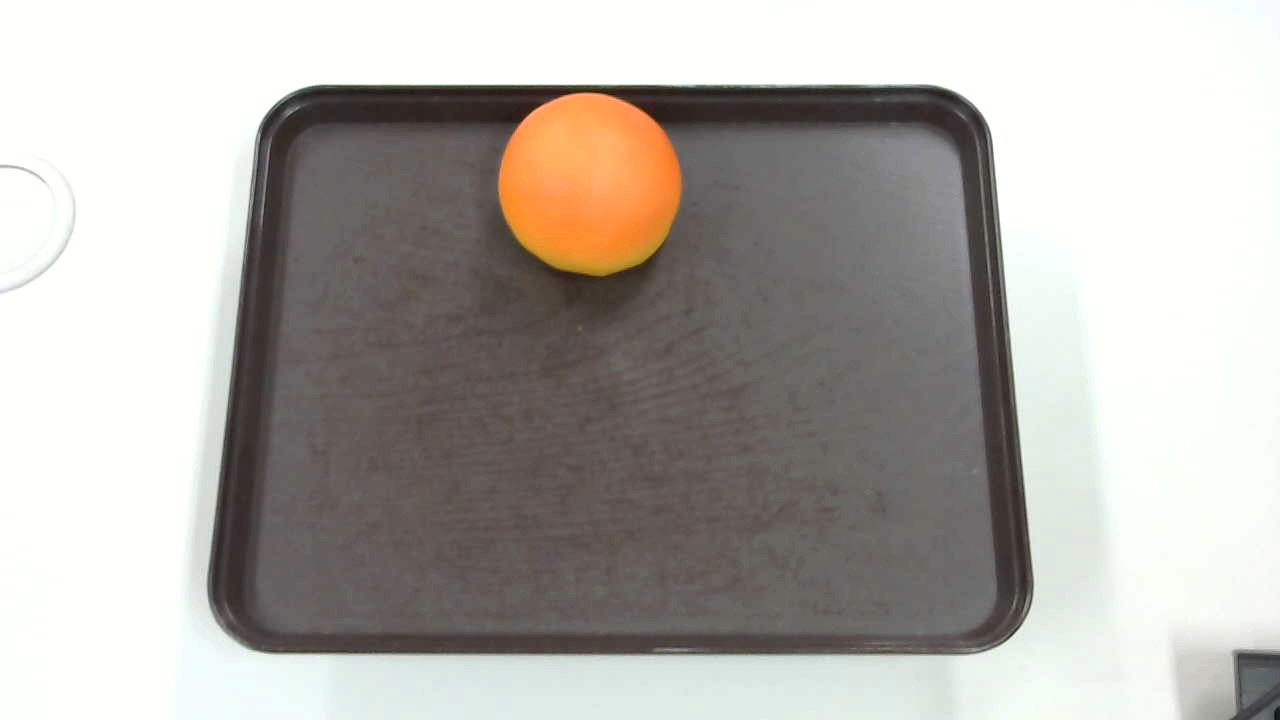bun: (498, 92, 682, 276)
